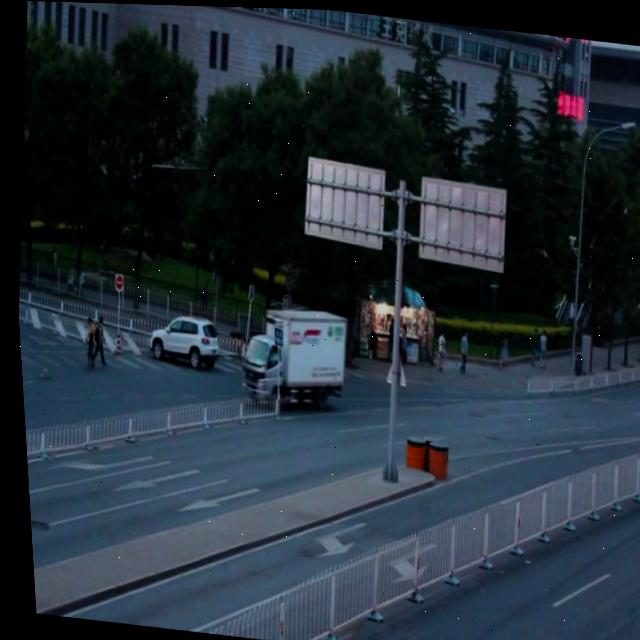bus: (231, 300, 346, 408)
car: (142, 308, 218, 368)
